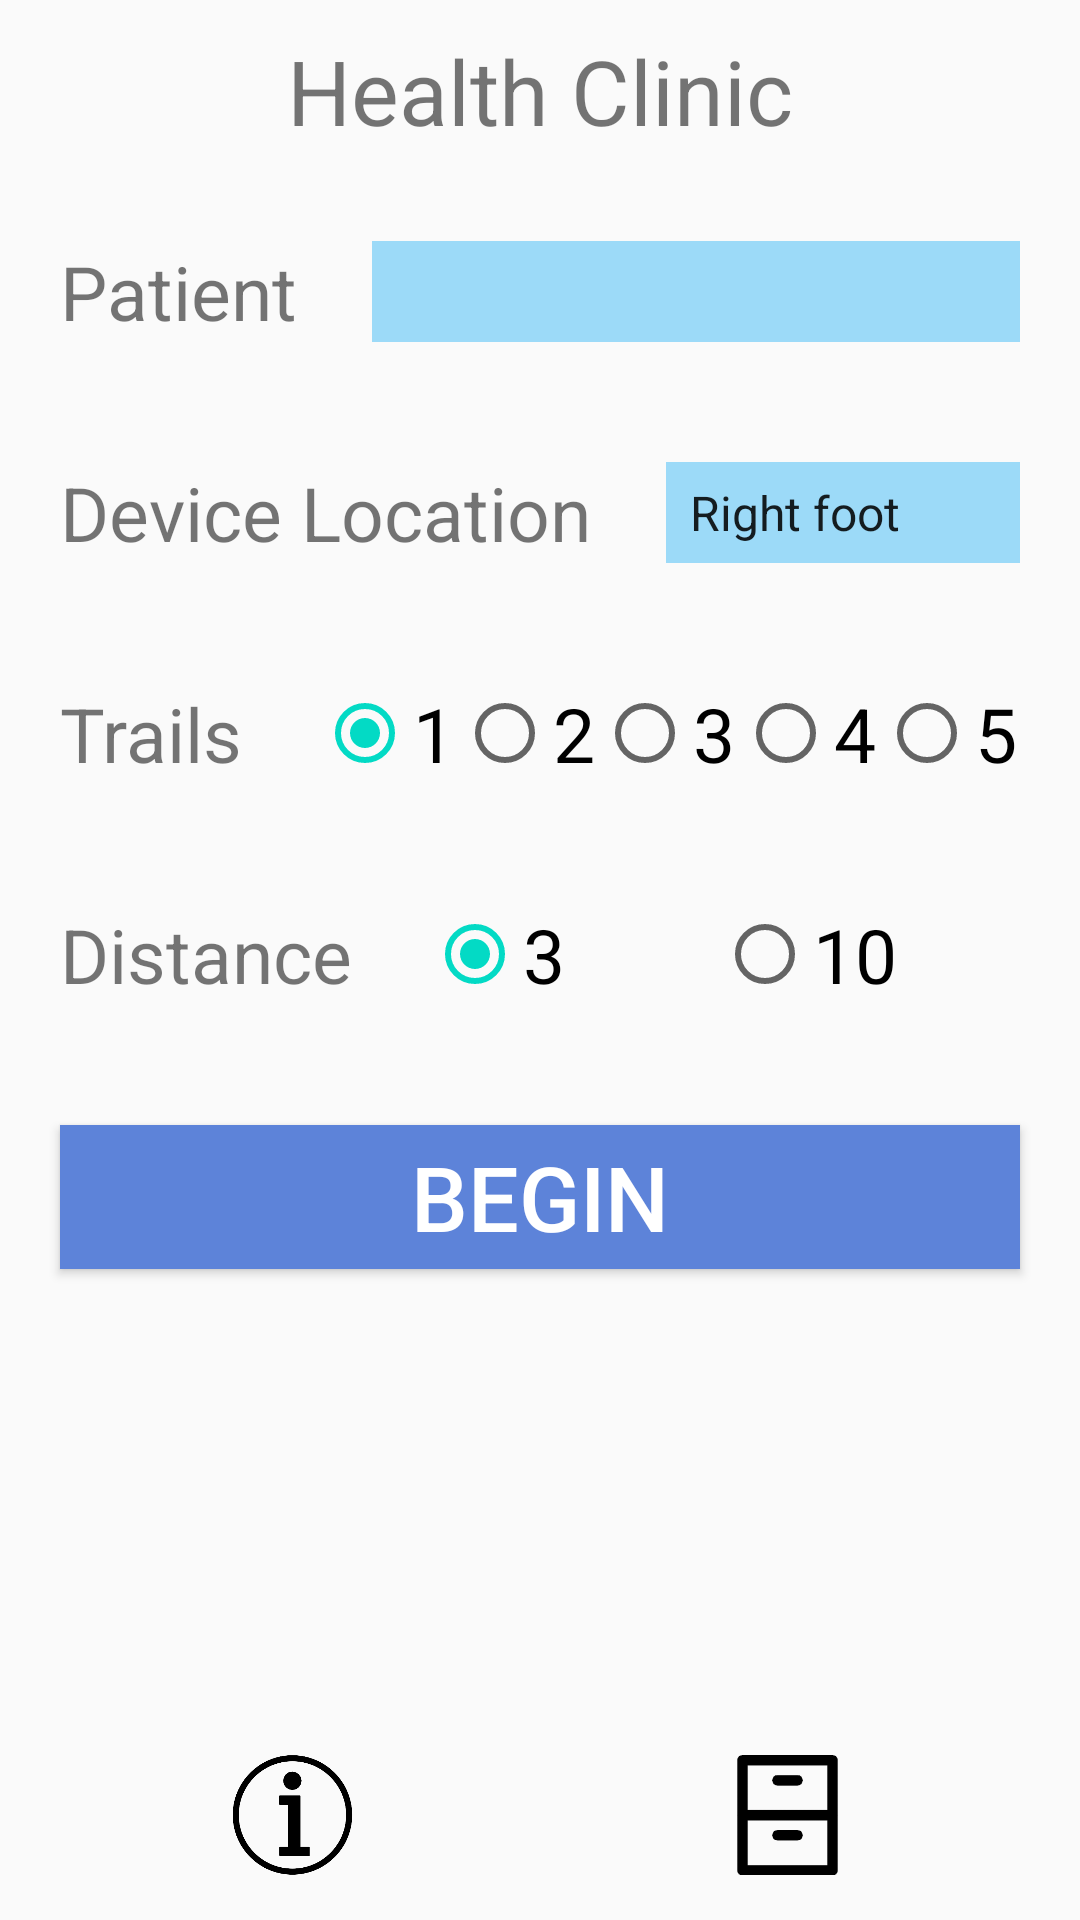

Icons on this 1080 × 1920 Android screen, each with the point to tap as [x,y]:
history: [787,1815]
information: [292,1815]
